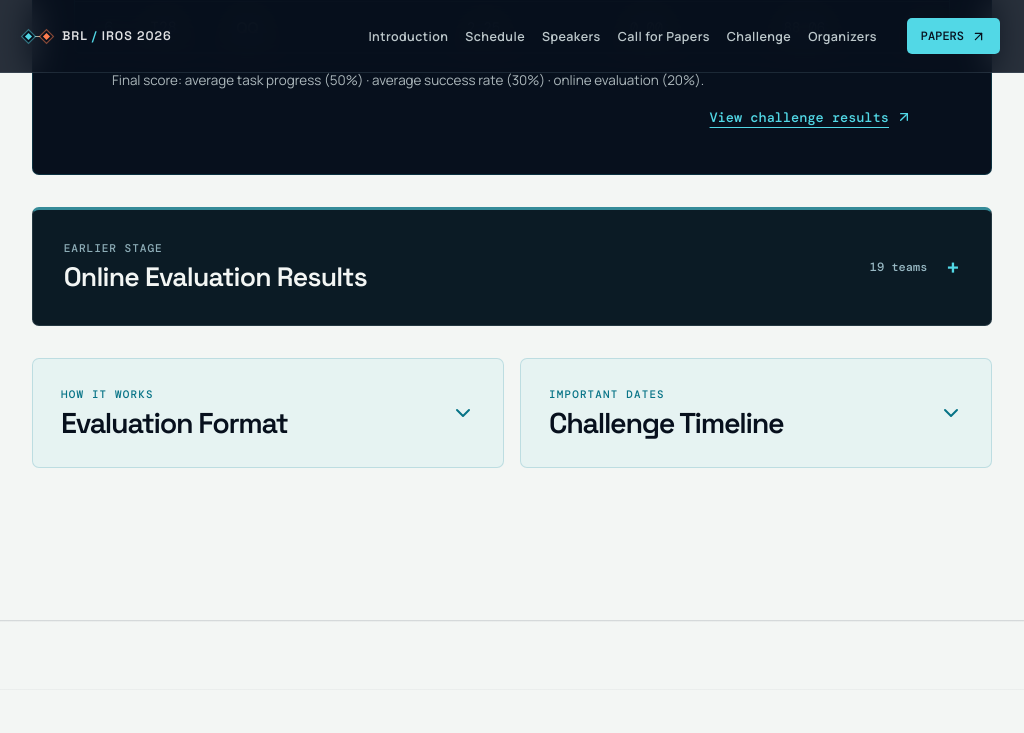
Test: workshop landing page › nests the complete real-robot evaluation scope inside Step 02
This screenshot has width=1024, height=733.
(page scrolled)
Click the heading "Evaluation Format". click: (174, 424)
box: x1=61 y1=408 x2=288 y2=439
(page scrolled)
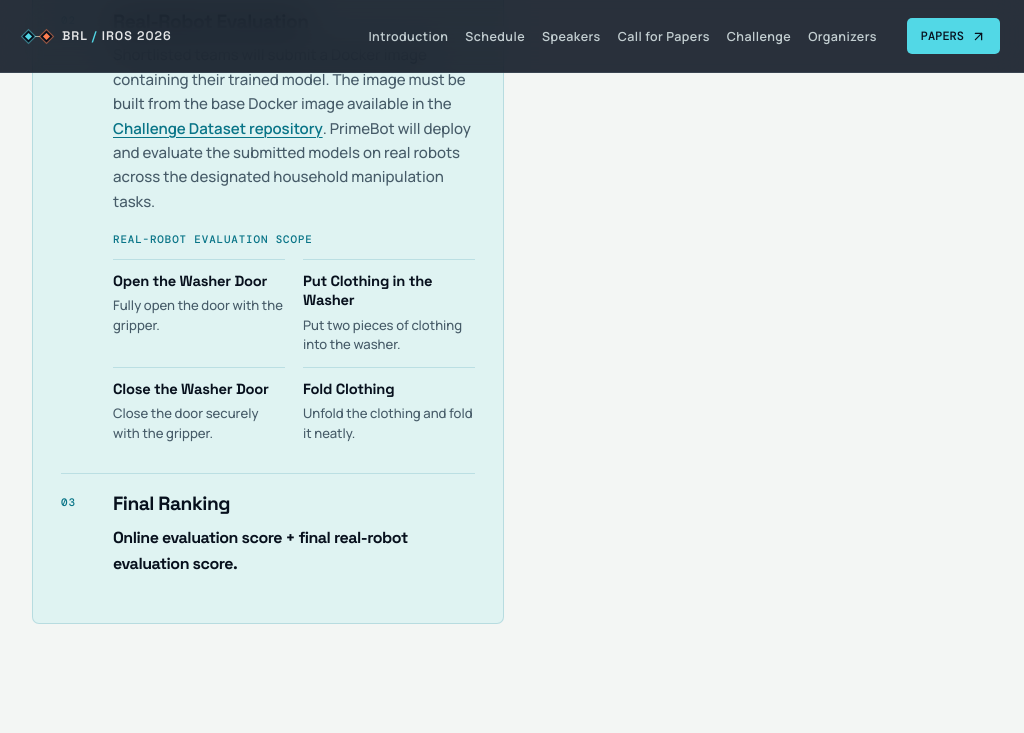
Expected: the number of list items with test id "challenge-task" is 4, x1=113 y1=259 x2=285 y2=367; x1=303 y1=259 x2=475 y2=367; x1=113 y1=367 x2=285 y2=456; x1=303 y1=367 x2=475 y2=456
Expected: the text "Open the Washer Door" is shown, x1=113 y1=272 x2=285 y2=291
Expected: the text "Fully open the door with the gripper." is shown, x1=113 y1=296 x2=285 y2=336
